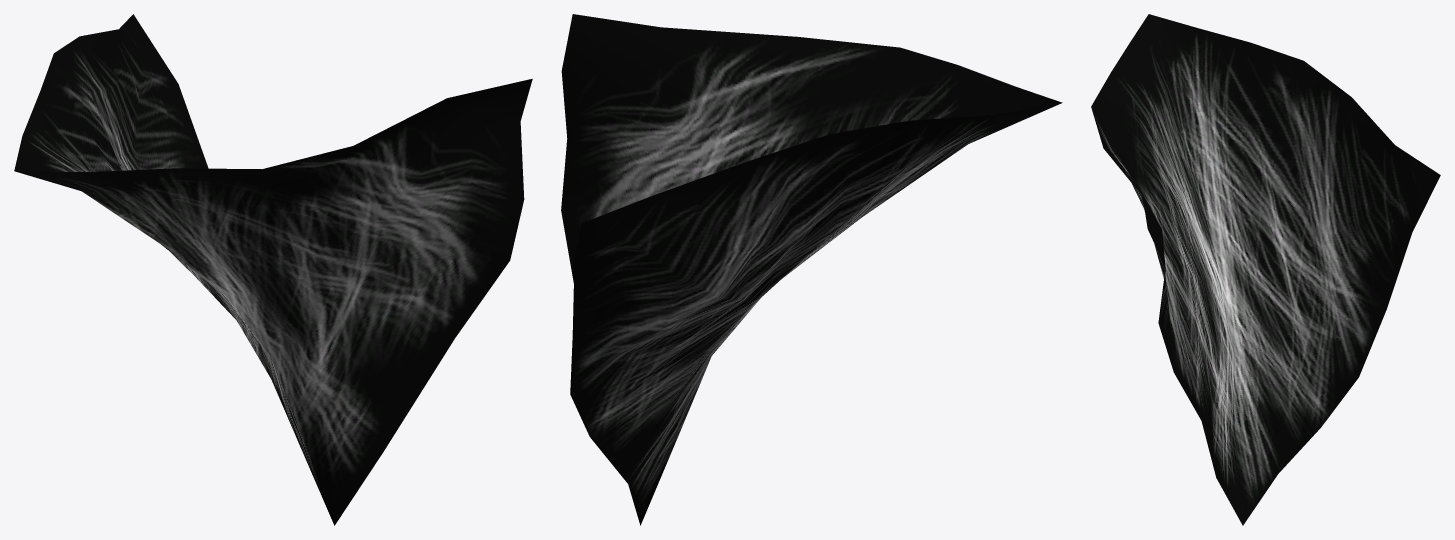
The model's file is SWORDLIGHT20_PS-AREA01_CORNERWEB15.fbx.
The picture shows the model from 3 angles, left to right: view 1: azimuth 30°, elevation 25°; view 2: azimuth 150°, elevation 25°; view 3: azimuth 270°, elevation 25°; orthographic projection. The views are drawn at different scales.
Visible parts, largest first — view 1: SWORDLIGHT20_PS-AREA01_CORNERWEB15; view 2: SWORDLIGHT20_PS-AREA01_CORNERWEB15; view 3: SWORDLIGHT20_PS-AREA01_CORNERWEB15.
Part boxes in pixels (x1,y1,x2,y2): SWORDLIGHT20_PS-AREA01_CORNERWEB15: (14, 14, 532, 525); SWORDLIGHT20_PS-AREA01_CORNERWEB15: (561, 14, 1062, 525); SWORDLIGHT20_PS-AREA01_CORNERWEB15: (1091, 14, 1440, 525).
Size of the model in its own units: 59165 by 54790 by 46036.
1 material, 1 textured.
